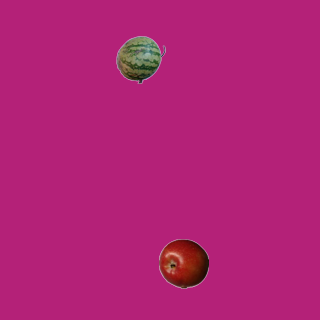Apple Braeburn: (158, 238, 208, 288)
Watermelon: (115, 34, 165, 84)
